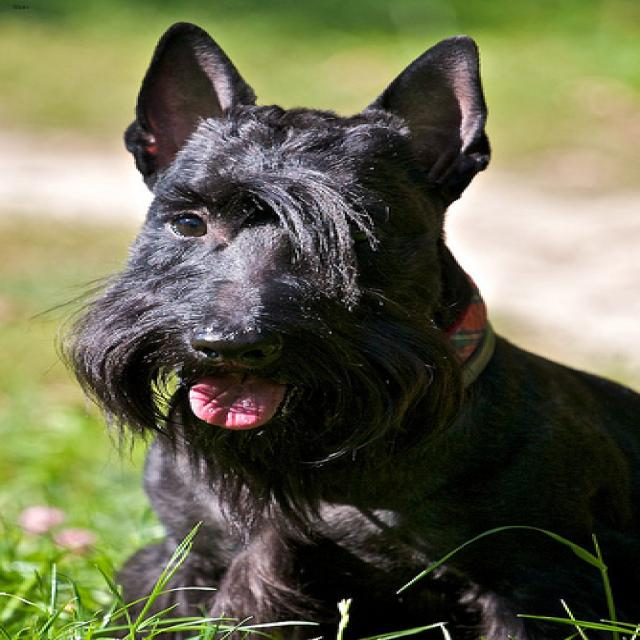dog-scottish_terrier: (38, 13, 636, 637)
